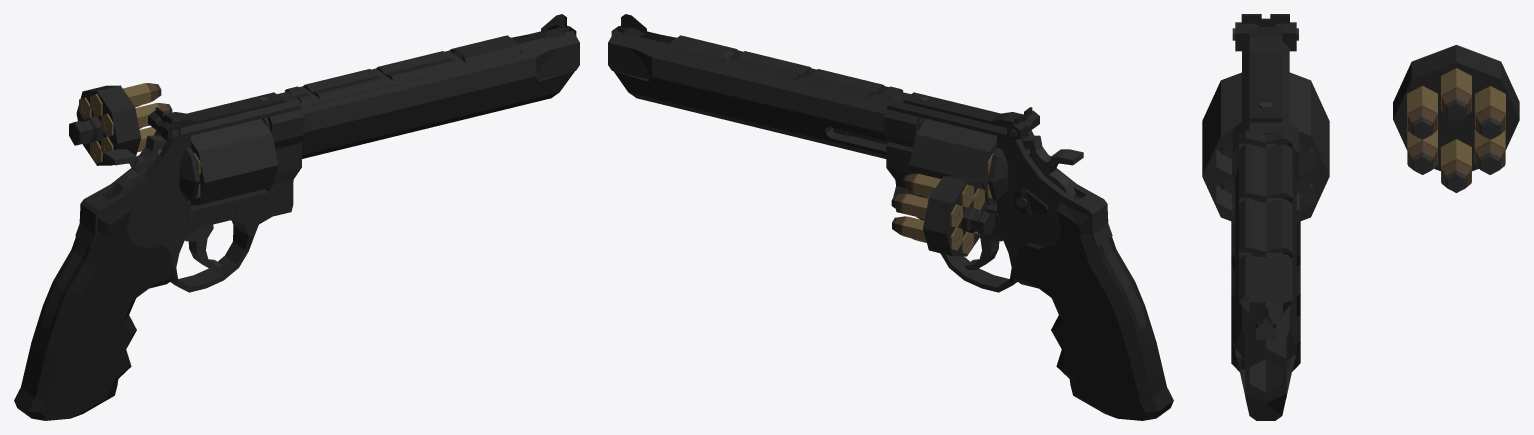
Rendered from revolver.glb.
3 renders of one model, left to right at view 1: azimuth 30°, elevation 25°; view 2: azimuth 150°, elevation 25°; view 3: azimuth 270°, elevation 25°, orthographic. The views are drawn at different scales.
Parts seen in each view (by area): view 1: revolver with longass name_0, speed_1; view 2: revolver with longass name_0, speed_1; view 3: revolver with longass name_0, speed_1.
Boxes of the visible parts, x1,y1,x2,y2 form: revolver with longass name_0: (14,14,579,420); speed_1: (69,83,172,165); revolver with longass name_0: (608,14,1173,420); speed_1: (891,173,994,256); revolver with longass name_0: (1202,14,1329,420); speed_1: (1393,45,1519,192).
Size of the model in its own units: 9.29 by 4.44 by 3.01.
